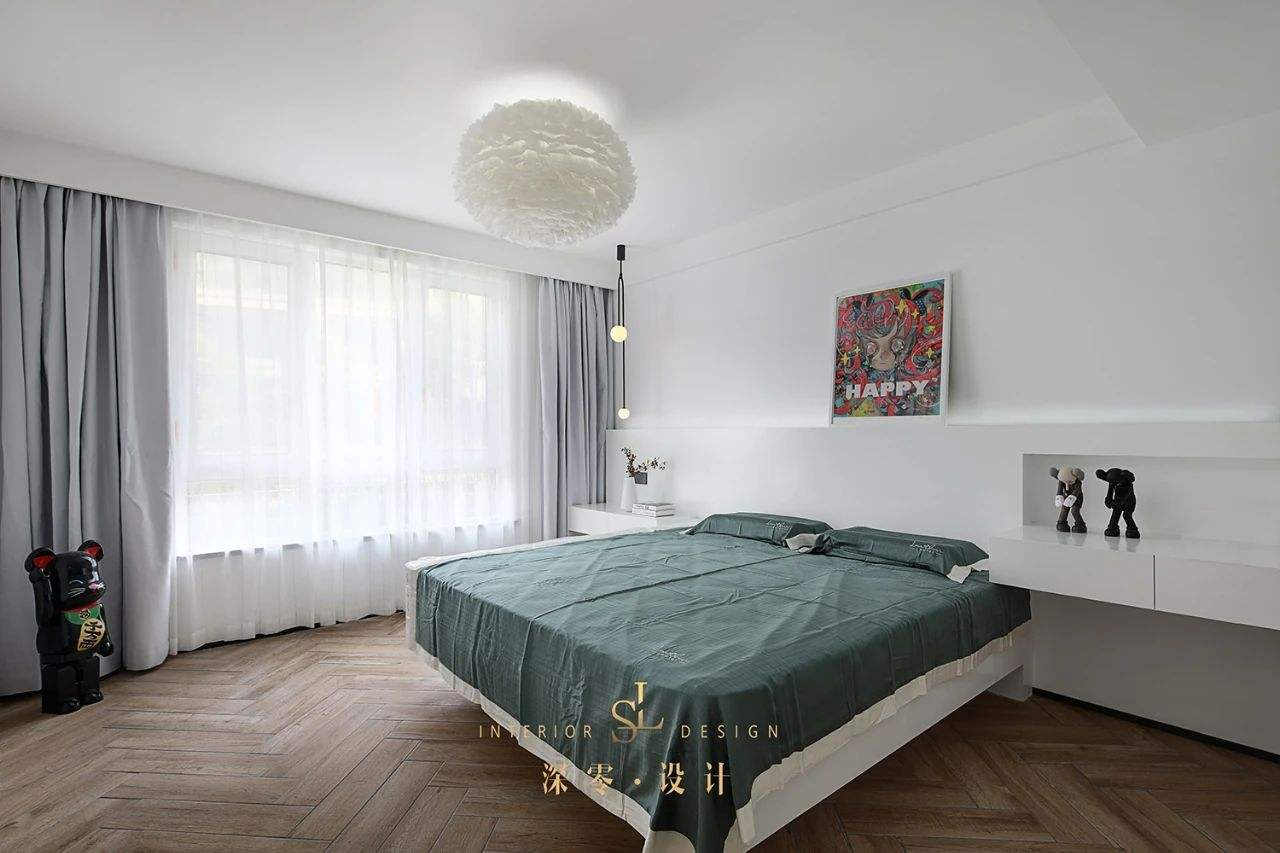床: (418, 524, 1002, 818)
枕头: (660, 512, 975, 573)
灯: (438, 81, 630, 255), (604, 241, 630, 425)
